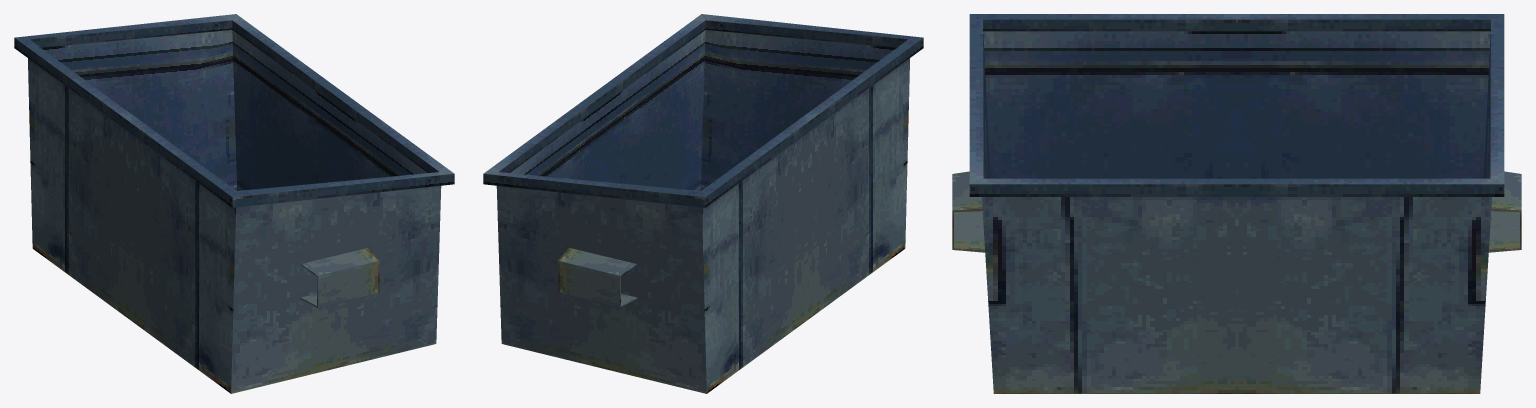
Rendered from dumpster_diagonal_empty_no_lid_blue.glb.
3 renders of one model, left to right at view 1: azimuth 30°, elevation 25°; view 2: azimuth 150°, elevation 25°; view 3: azimuth 270°, elevation 25°, orthographic. The views are drawn at different scales.
Visible parts, largest first — view 1: dumpster_diagonal_empty_no_lid_blue; view 2: dumpster_diagonal_empty_no_lid_blue; view 3: dumpster_diagonal_empty_no_lid_blue.
Part boxes in pixels (x1,y1,x2,y2): dumpster_diagonal_empty_no_lid_blue: [14, 14, 454, 393]; dumpster_diagonal_empty_no_lid_blue: [483, 14, 923, 393]; dumpster_diagonal_empty_no_lid_blue: [952, 14, 1521, 393].
Size of the model in its own units: 2.03 by 1.8 by 3.67.
Materials: 1 (1 with a texture image).
